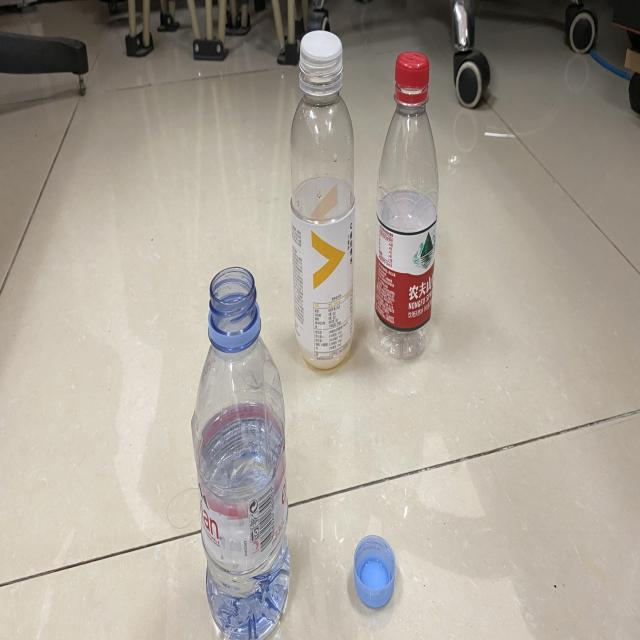Anorganik: (193, 257, 298, 640), (284, 25, 359, 372), (369, 41, 441, 375)
